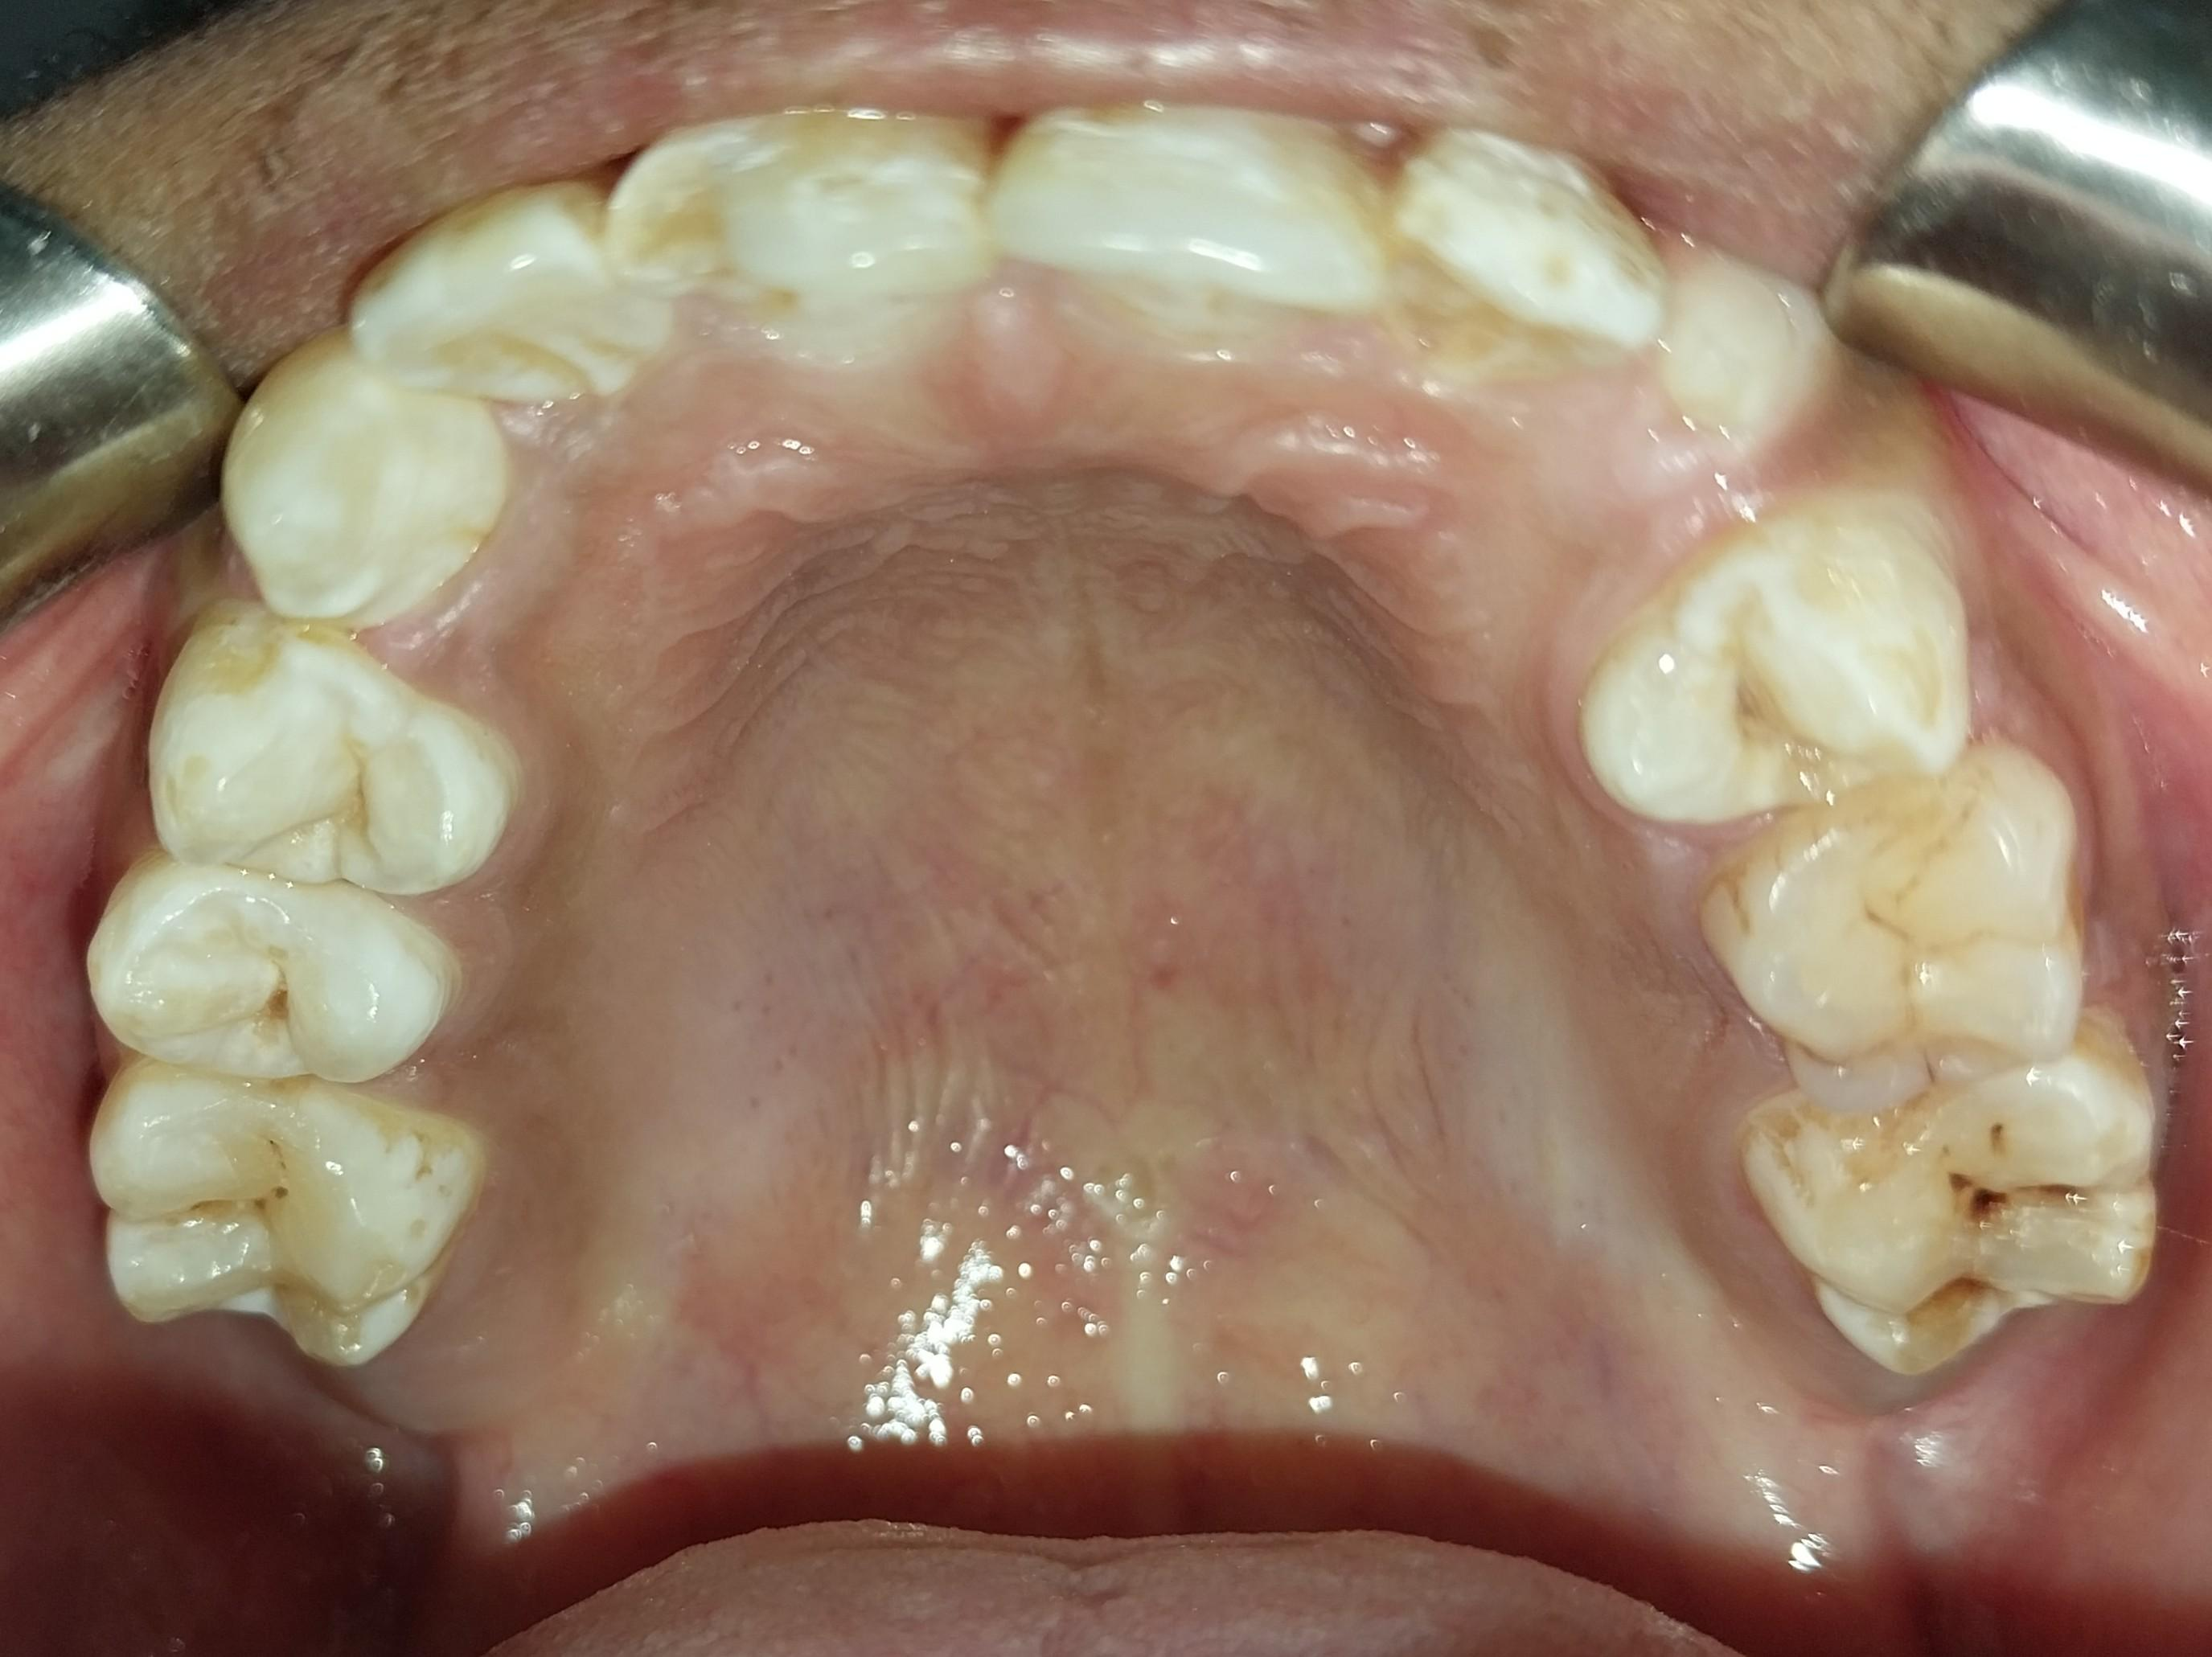D: (1747, 1019, 2159, 1372), (92, 1065, 476, 1368)
